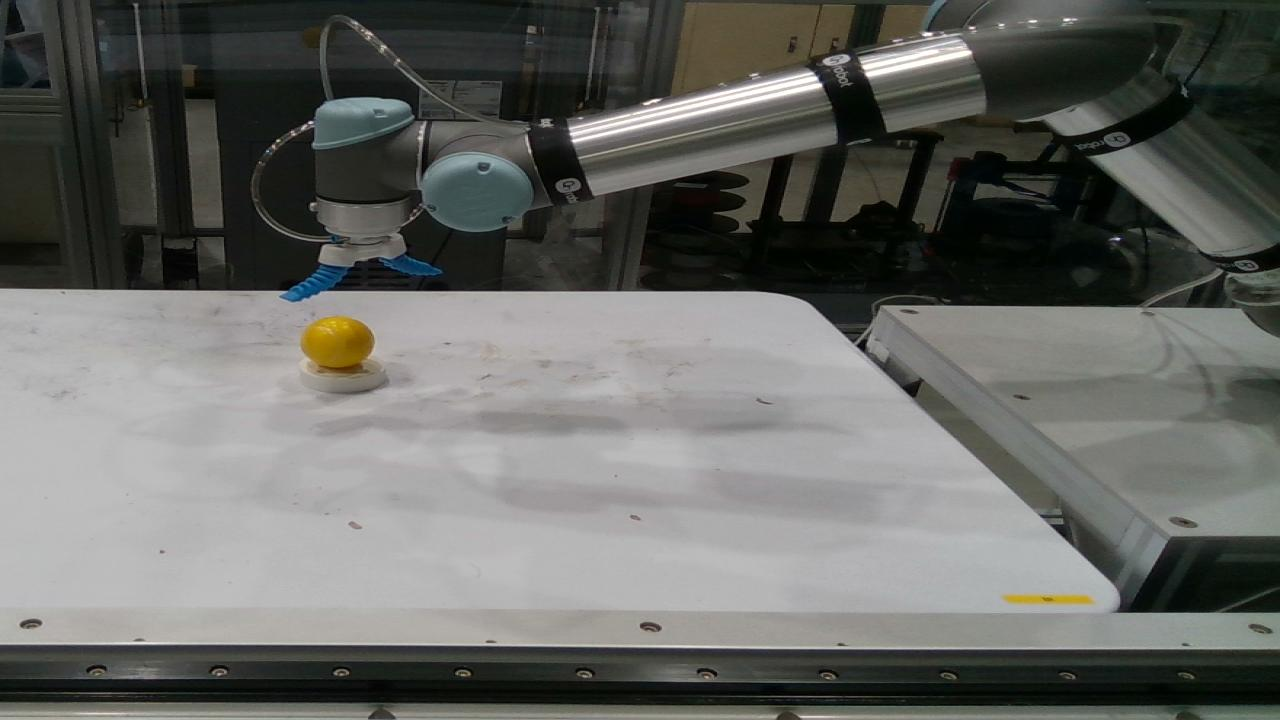UR5: (314, 0, 1279, 335)
gripper_left: (380, 253, 441, 276)
gripper_right: (281, 264, 348, 301)
target: (301, 317, 374, 370), (300, 359, 387, 393)
